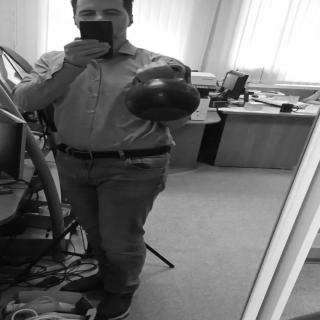girya: (125, 64, 200, 121)
